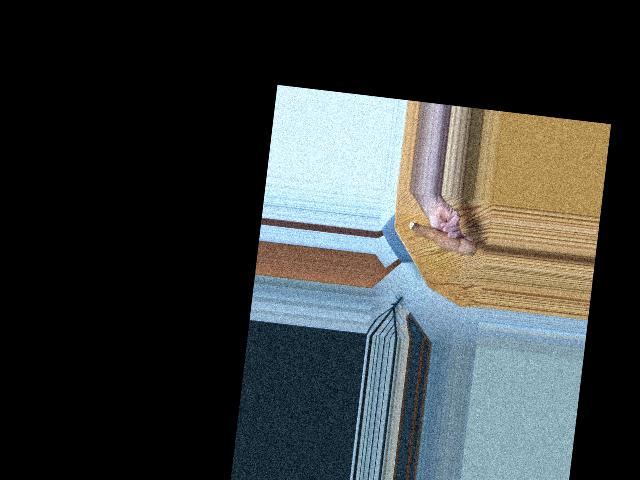sweet_potato: (405, 219, 479, 257)
